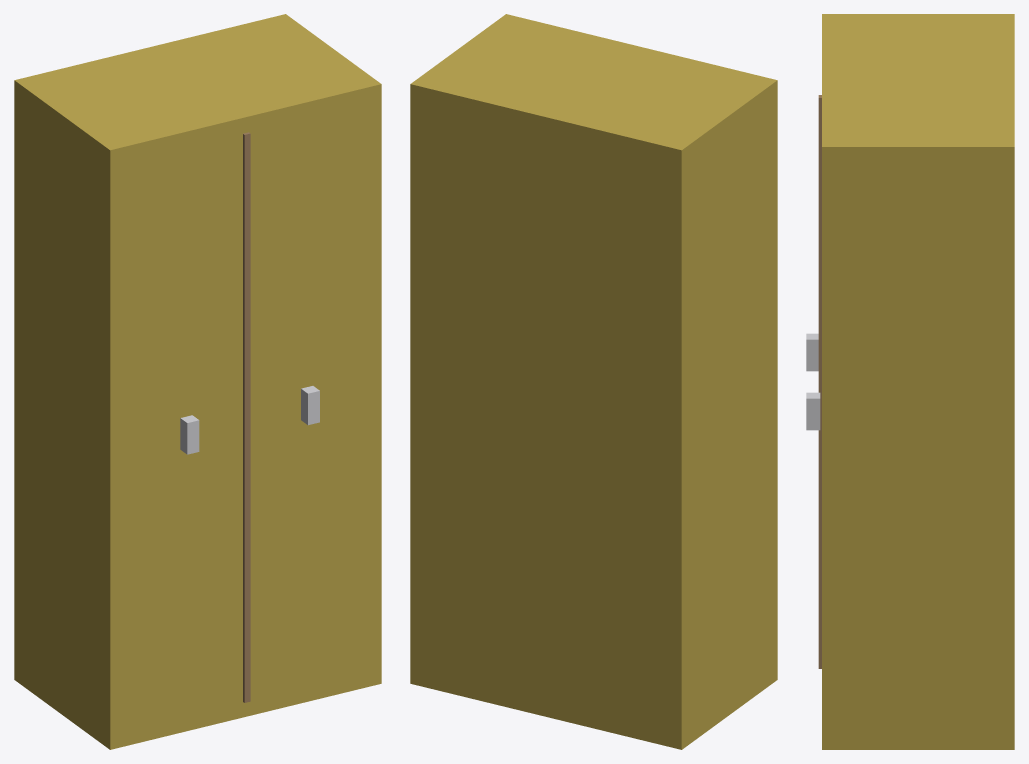
Rendered from wardrobe.glb.
3 views of the same model, side by side, from view 1: azimuth 30°, elevation 25°; view 2: azimuth 150°, elevation 25°; view 3: azimuth 270°, elevation 25° (orthographic).
Visible parts, largest first — view 1: body, divider, handles; view 2: body; view 3: body, divider, handles.
Boxes of the visible parts, <box> form: body: <box>14,14,381,749</box>; divider: <box>243,132,250,702</box>; handles: <box>180,386,319,454</box>; body: <box>410,14,777,749</box>; body: <box>822,14,1014,749</box>; divider: <box>818,95,821,668</box>; handles: <box>806,333,820,430</box>.
Bounding box in the file's own units: 0.9 × 1.9 × 0.595.
